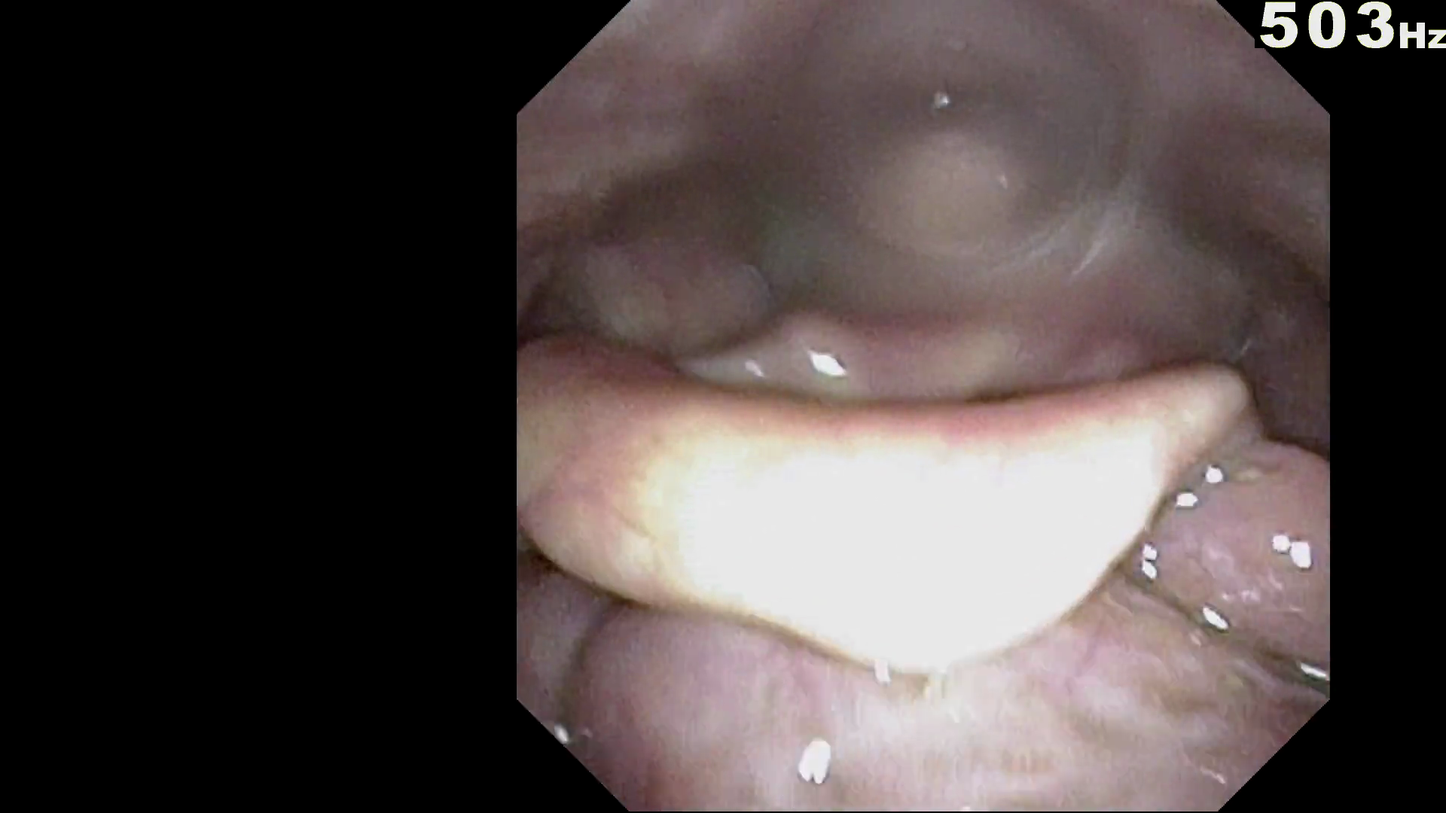epiglottis: (626, 372, 1242, 597)
